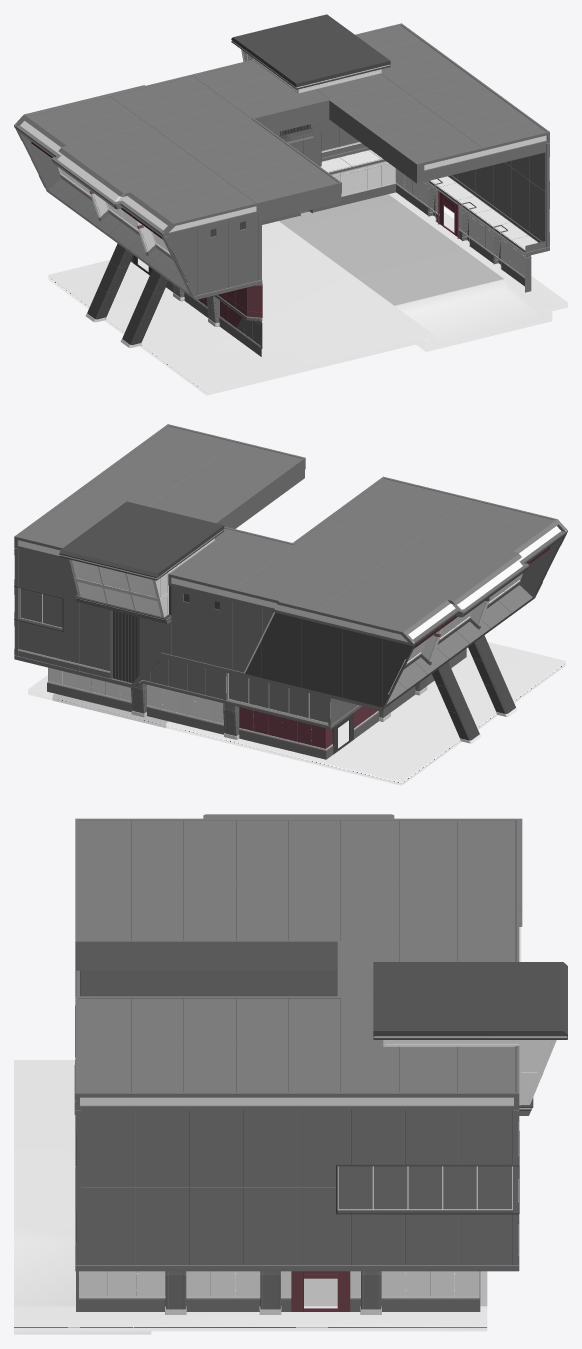
3 views of the same model, one above another, from view 1: azimuth 30°, elevation 25°; view 2: azimuth 150°, elevation 25°; view 3: azimuth 270°, elevation 25° (orthographic). The views are drawn at different scales.
Parts seen in each view (by area): view 1: SM_H_Building_FutureTech_CtControl_01_ExterWall_01; view 2: SM_H_Building_FutureTech_CtControl_01_ExterWall_01; view 3: SM_H_Building_FutureTech_CtControl_01_ExterWall_01.
Part boxes in pixels (bbox=[...]): SM_H_Building_FutureTech_CtControl_01_ExterWall_01: bbox=[14, 14, 567, 395]; SM_H_Building_FutureTech_CtControl_01_ExterWall_01: bbox=[14, 424, 567, 785]; SM_H_Building_FutureTech_CtControl_01_ExterWall_01: bbox=[14, 814, 567, 1334].
Size of the model in its own units: 1898 by 2326 by 1033.
